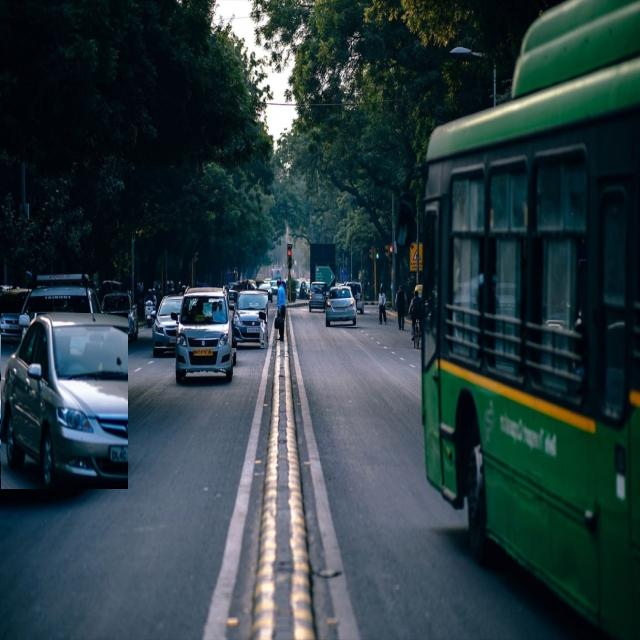bus: (421, 0, 640, 636)
car: (0, 313, 128, 489), (171, 289, 238, 382), (229, 291, 268, 348), (152, 296, 182, 358), (102, 292, 139, 341), (326, 287, 356, 327)
